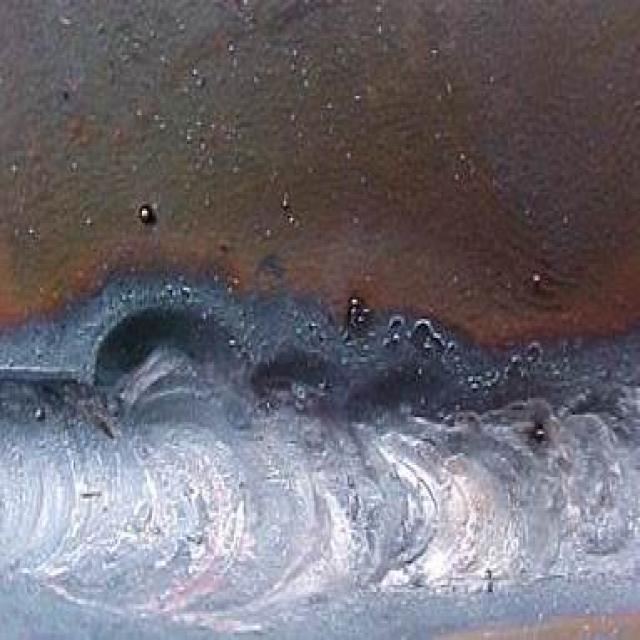Bad Welding: (0, 290, 638, 616)
Porosity: (524, 410, 544, 453)
Spatters: (132, 201, 160, 233)
